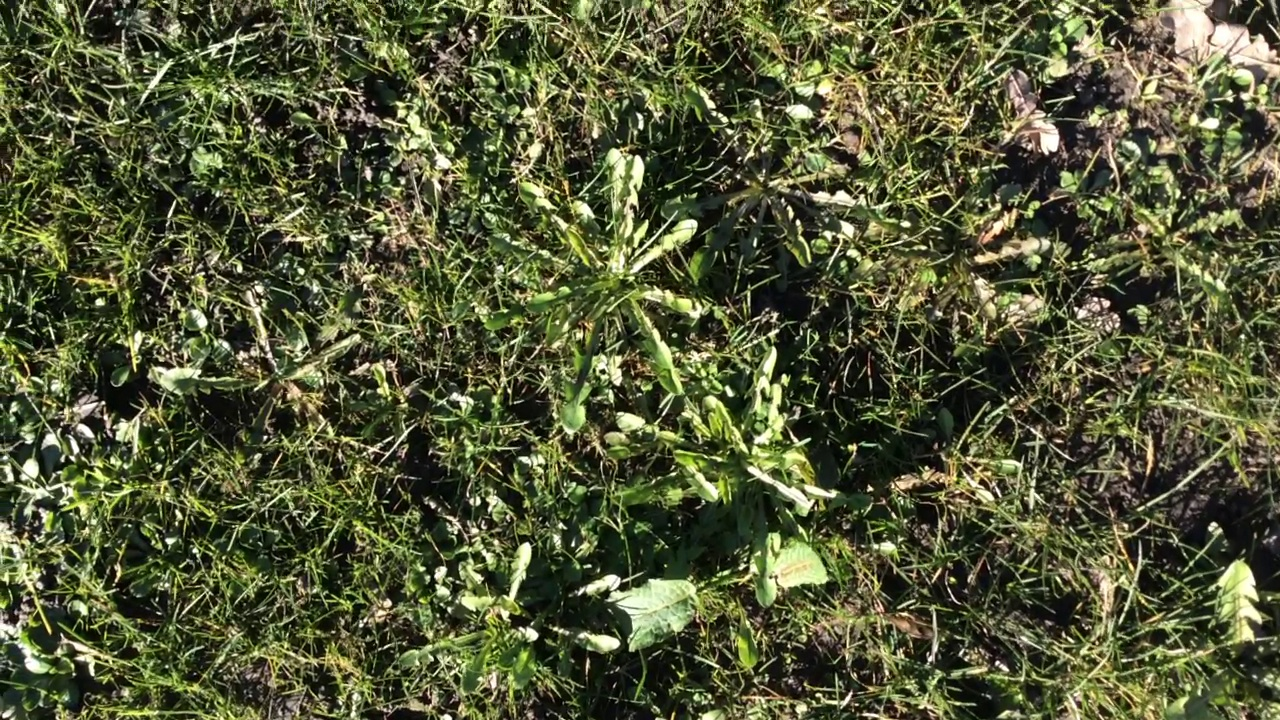rumex: (591, 580, 698, 647), (750, 542, 826, 589)
